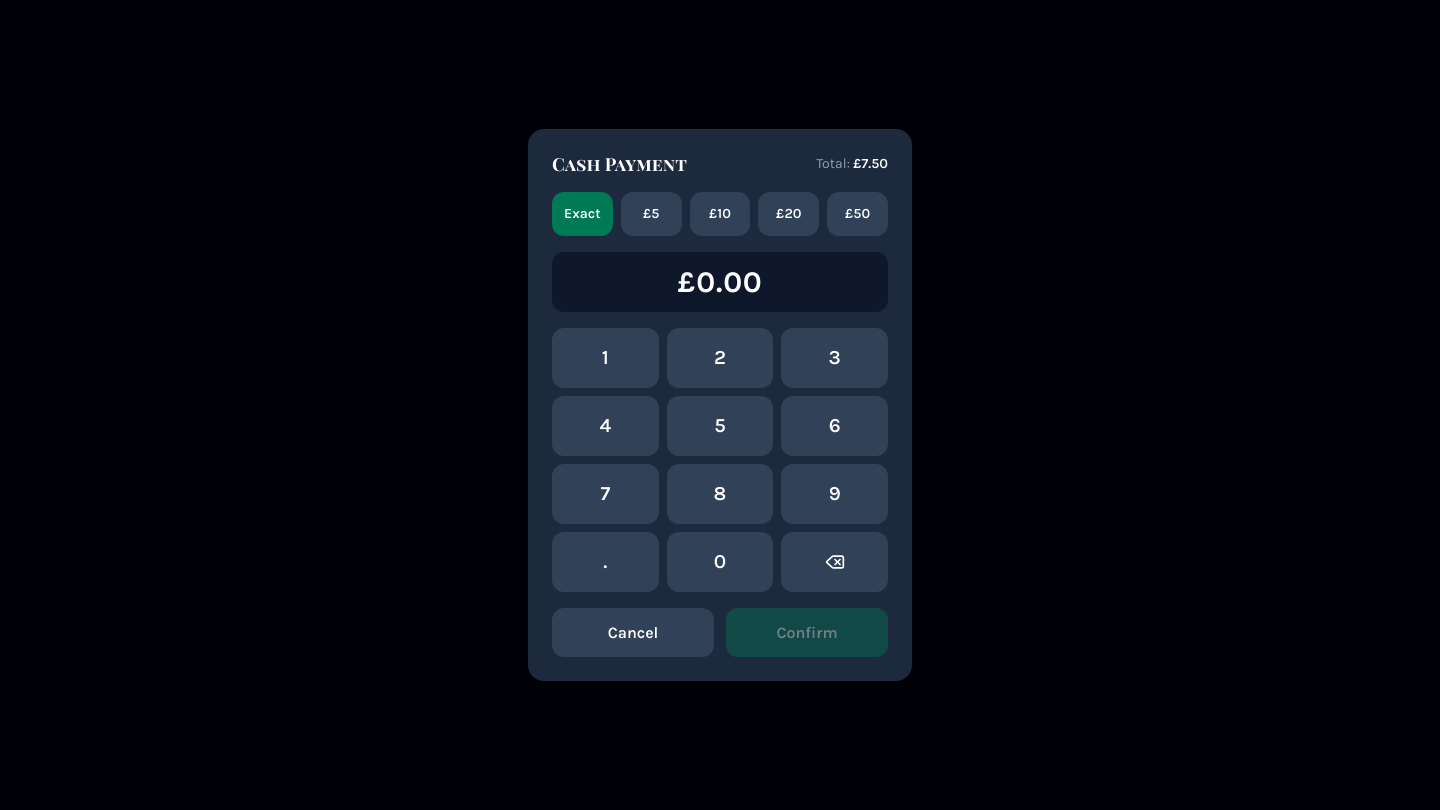
Scenario: CashPaymentModal › backspace removes last digit
Click the button "1" at (605, 358), box [552,328,659,388]
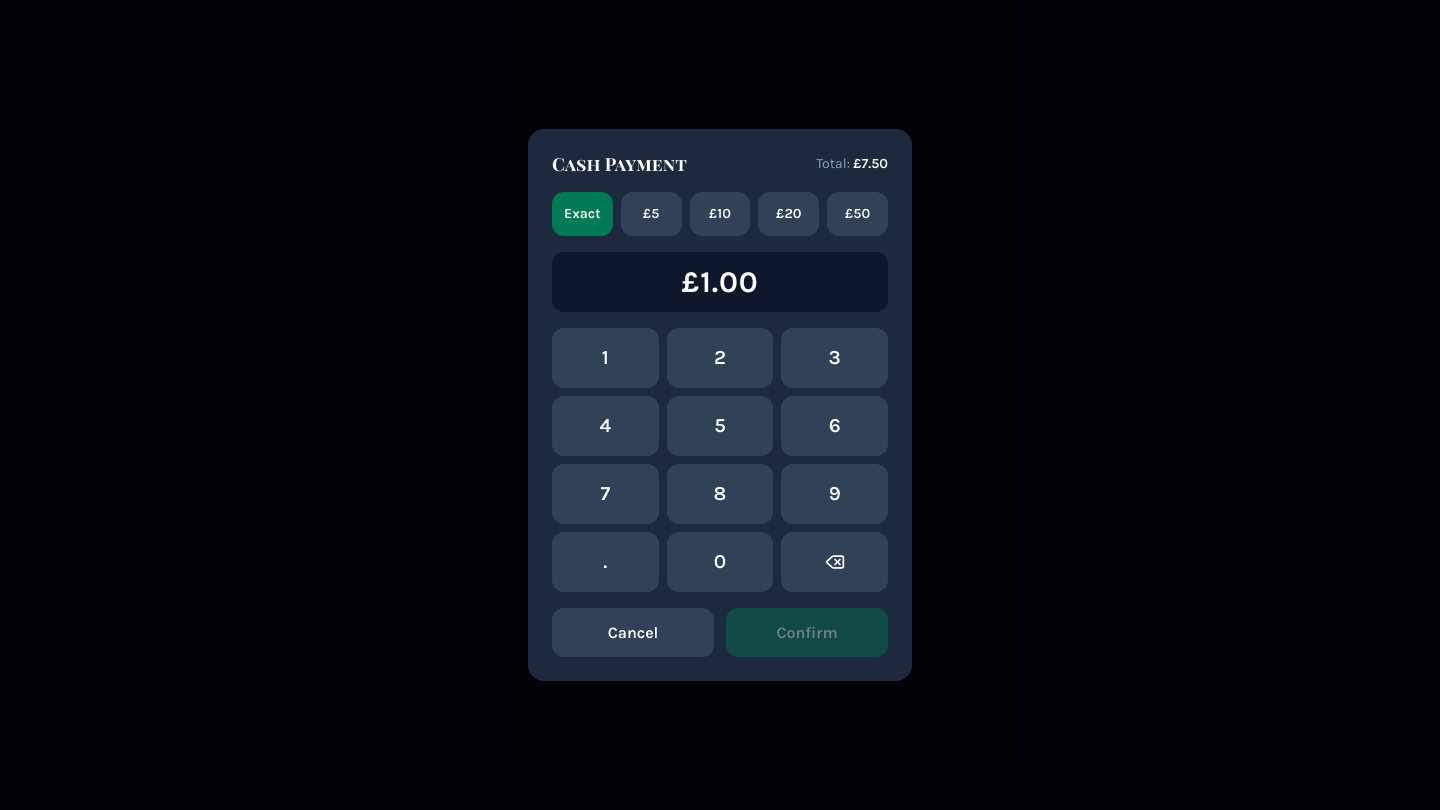
Click the button "0" at (720, 562), box [667,532,773,592]
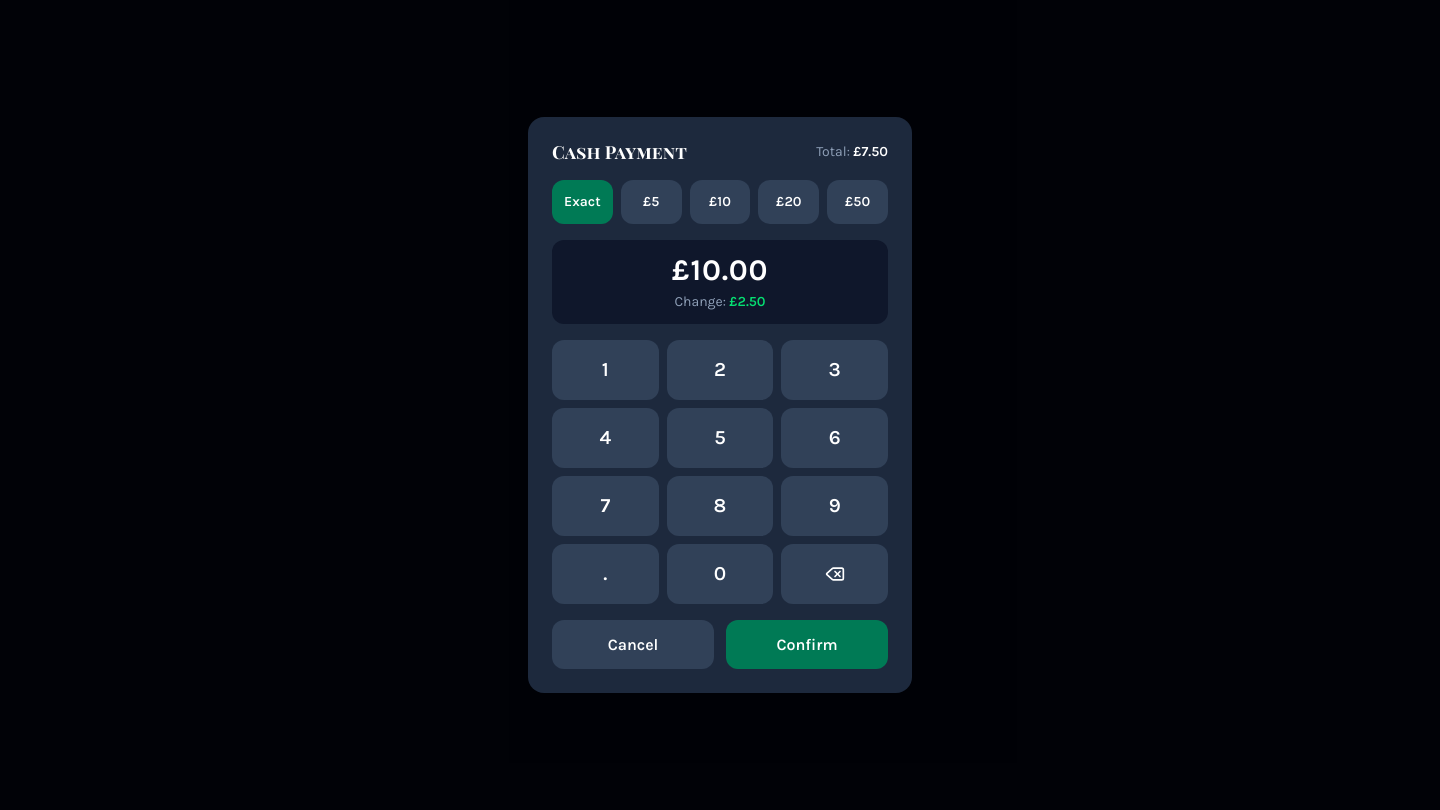
Click the button named "back" at (835, 574), box [781,544,888,604]
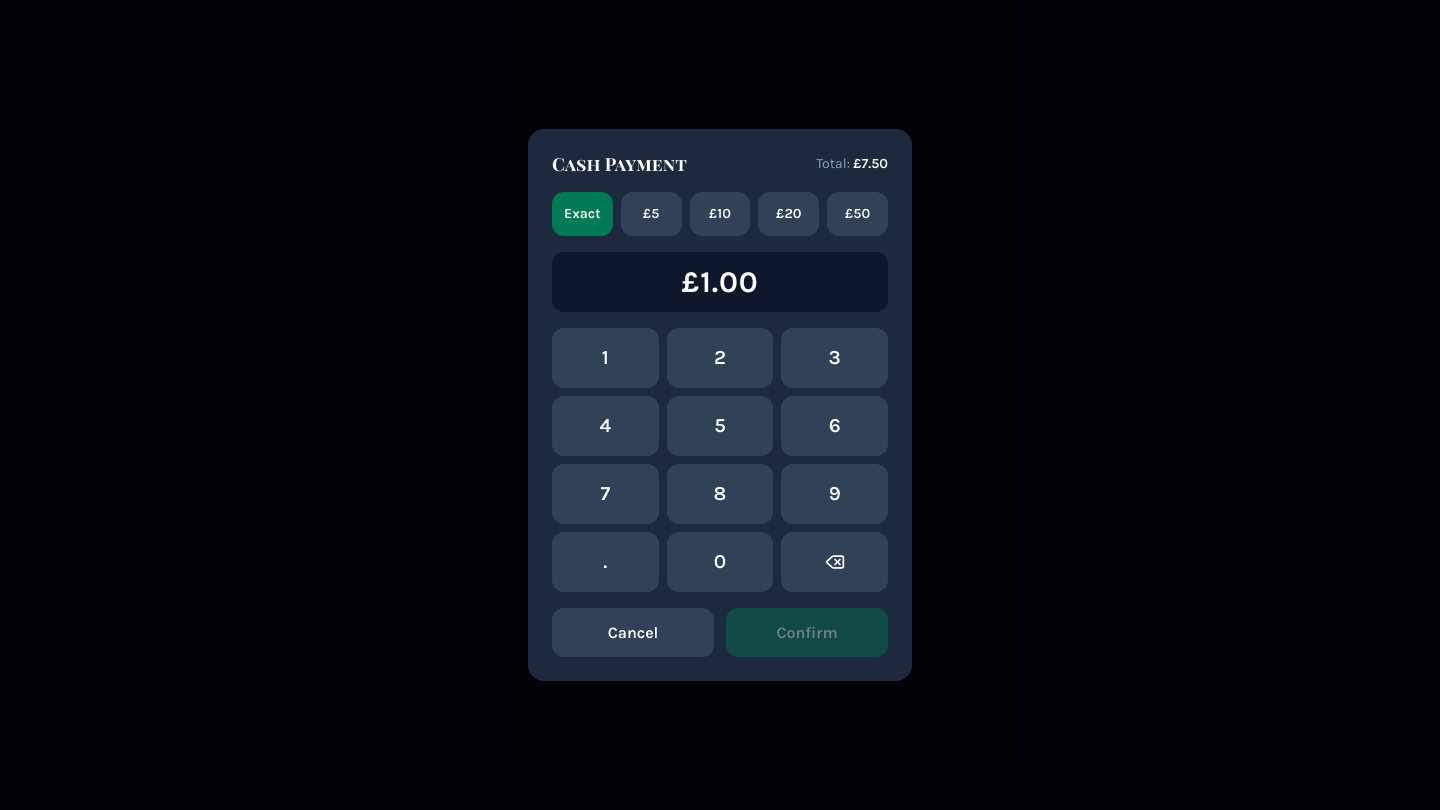
Expected: the text "£1.00" is shown, [682,264,758,300]
